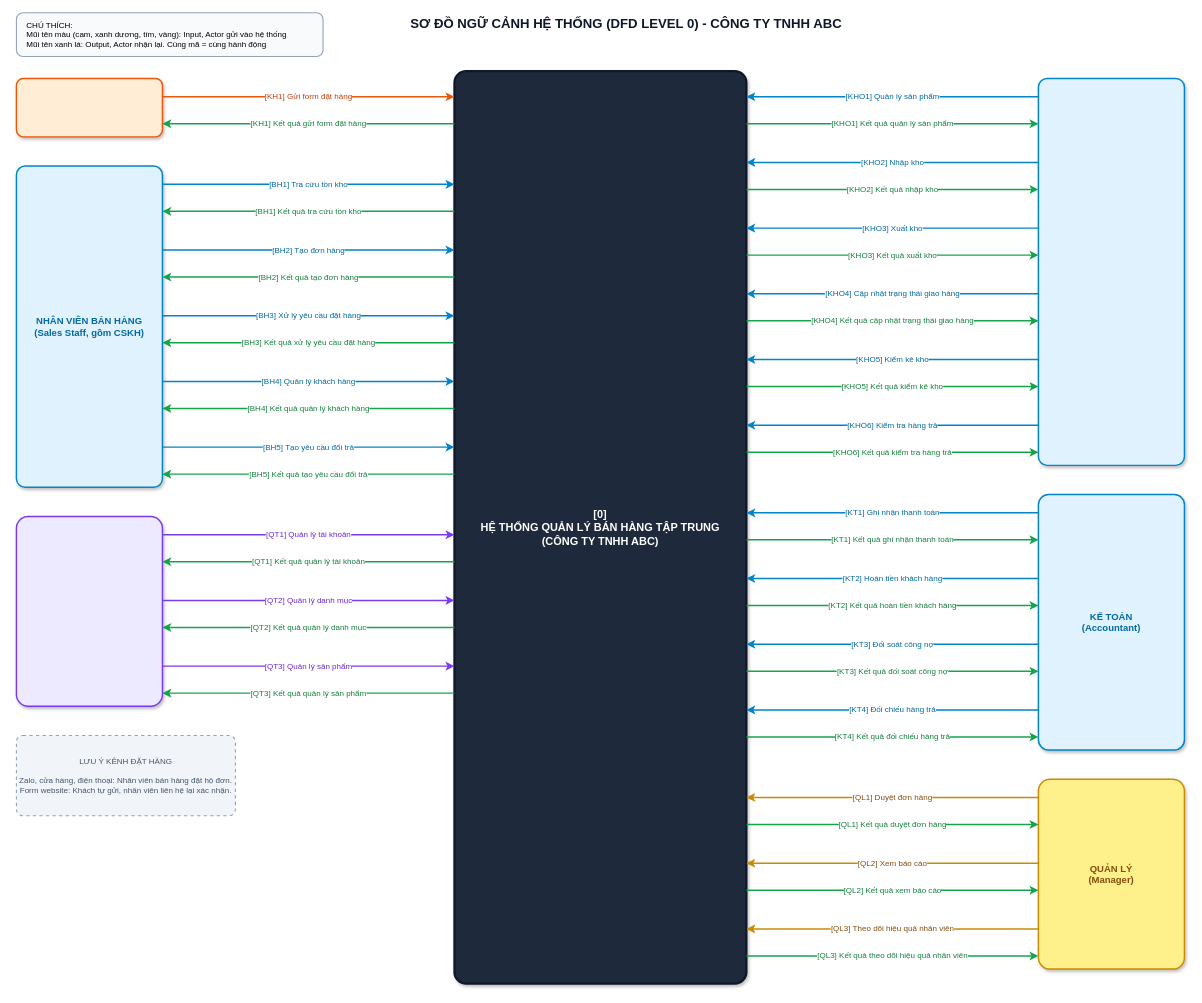
Some shapes in this 1202 by 1003 pixel diagram are drawn without their labels. Here are the shapes that lost their labels. From the top down, the centre of each, then its label:
the point at 89,108: KHÁCH HÀNG (Customer)
the point at 1111,272: NHÂN VIÊN KHO (Warehouse Staff)
the point at 89,612: QUẢN TRỊ VIÊN (System Admin)
